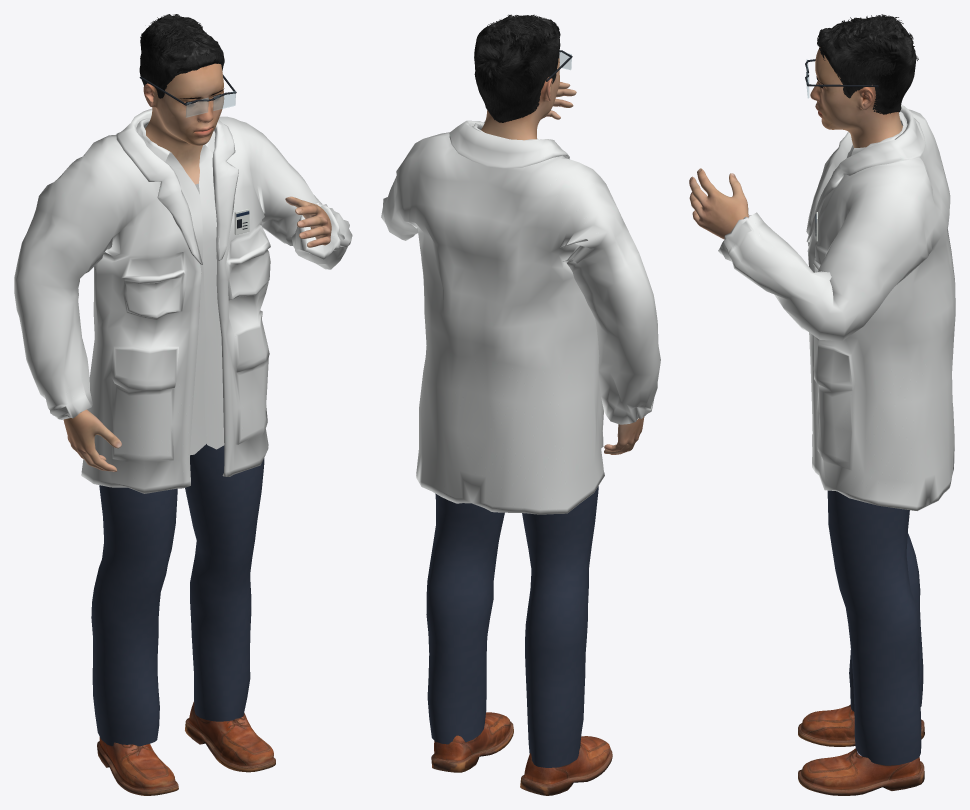
Rendered from crime-lab-researcher-static.glb.
The picture shows the model from 3 angles, left to right: view 1: azimuth 30°, elevation 25°; view 2: azimuth 150°, elevation 25°; view 3: azimuth 270°, elevation 25°; orthographic projection.
Parts seen in each view (by area): view 1: male_casualsuit05, Sam | anatomical body, shoes01, short01; view 2: male_casualsuit05, short01, shoes01, Sam | anatomical body; view 3: male_casualsuit05, short01, Sam | anatomical body, shoes01.
Part boxes in pixels (box(x1,y1,x2,y2)): male_casualsuit05: box(14, 108, 352, 746); Sam | anatomical body: box(63, 63, 331, 471); shoes01: box(97, 702, 275, 795); short01: box(139, 14, 224, 98); male_casualsuit05: box(381, 120, 660, 767); short01: box(474, 14, 560, 122); shoes01: box(431, 712, 612, 795); Sam | anatomical body: box(481, 56, 644, 454); male_casualsuit05: box(718, 105, 955, 765); short01: box(817, 14, 918, 114); Sam | anatomical body: box(689, 47, 902, 239); shoes01: box(798, 704, 924, 795).
Bounding box in the file's own units: 0.7472 × 1.79 × 0.5835.
14 materials, 13 textured.
